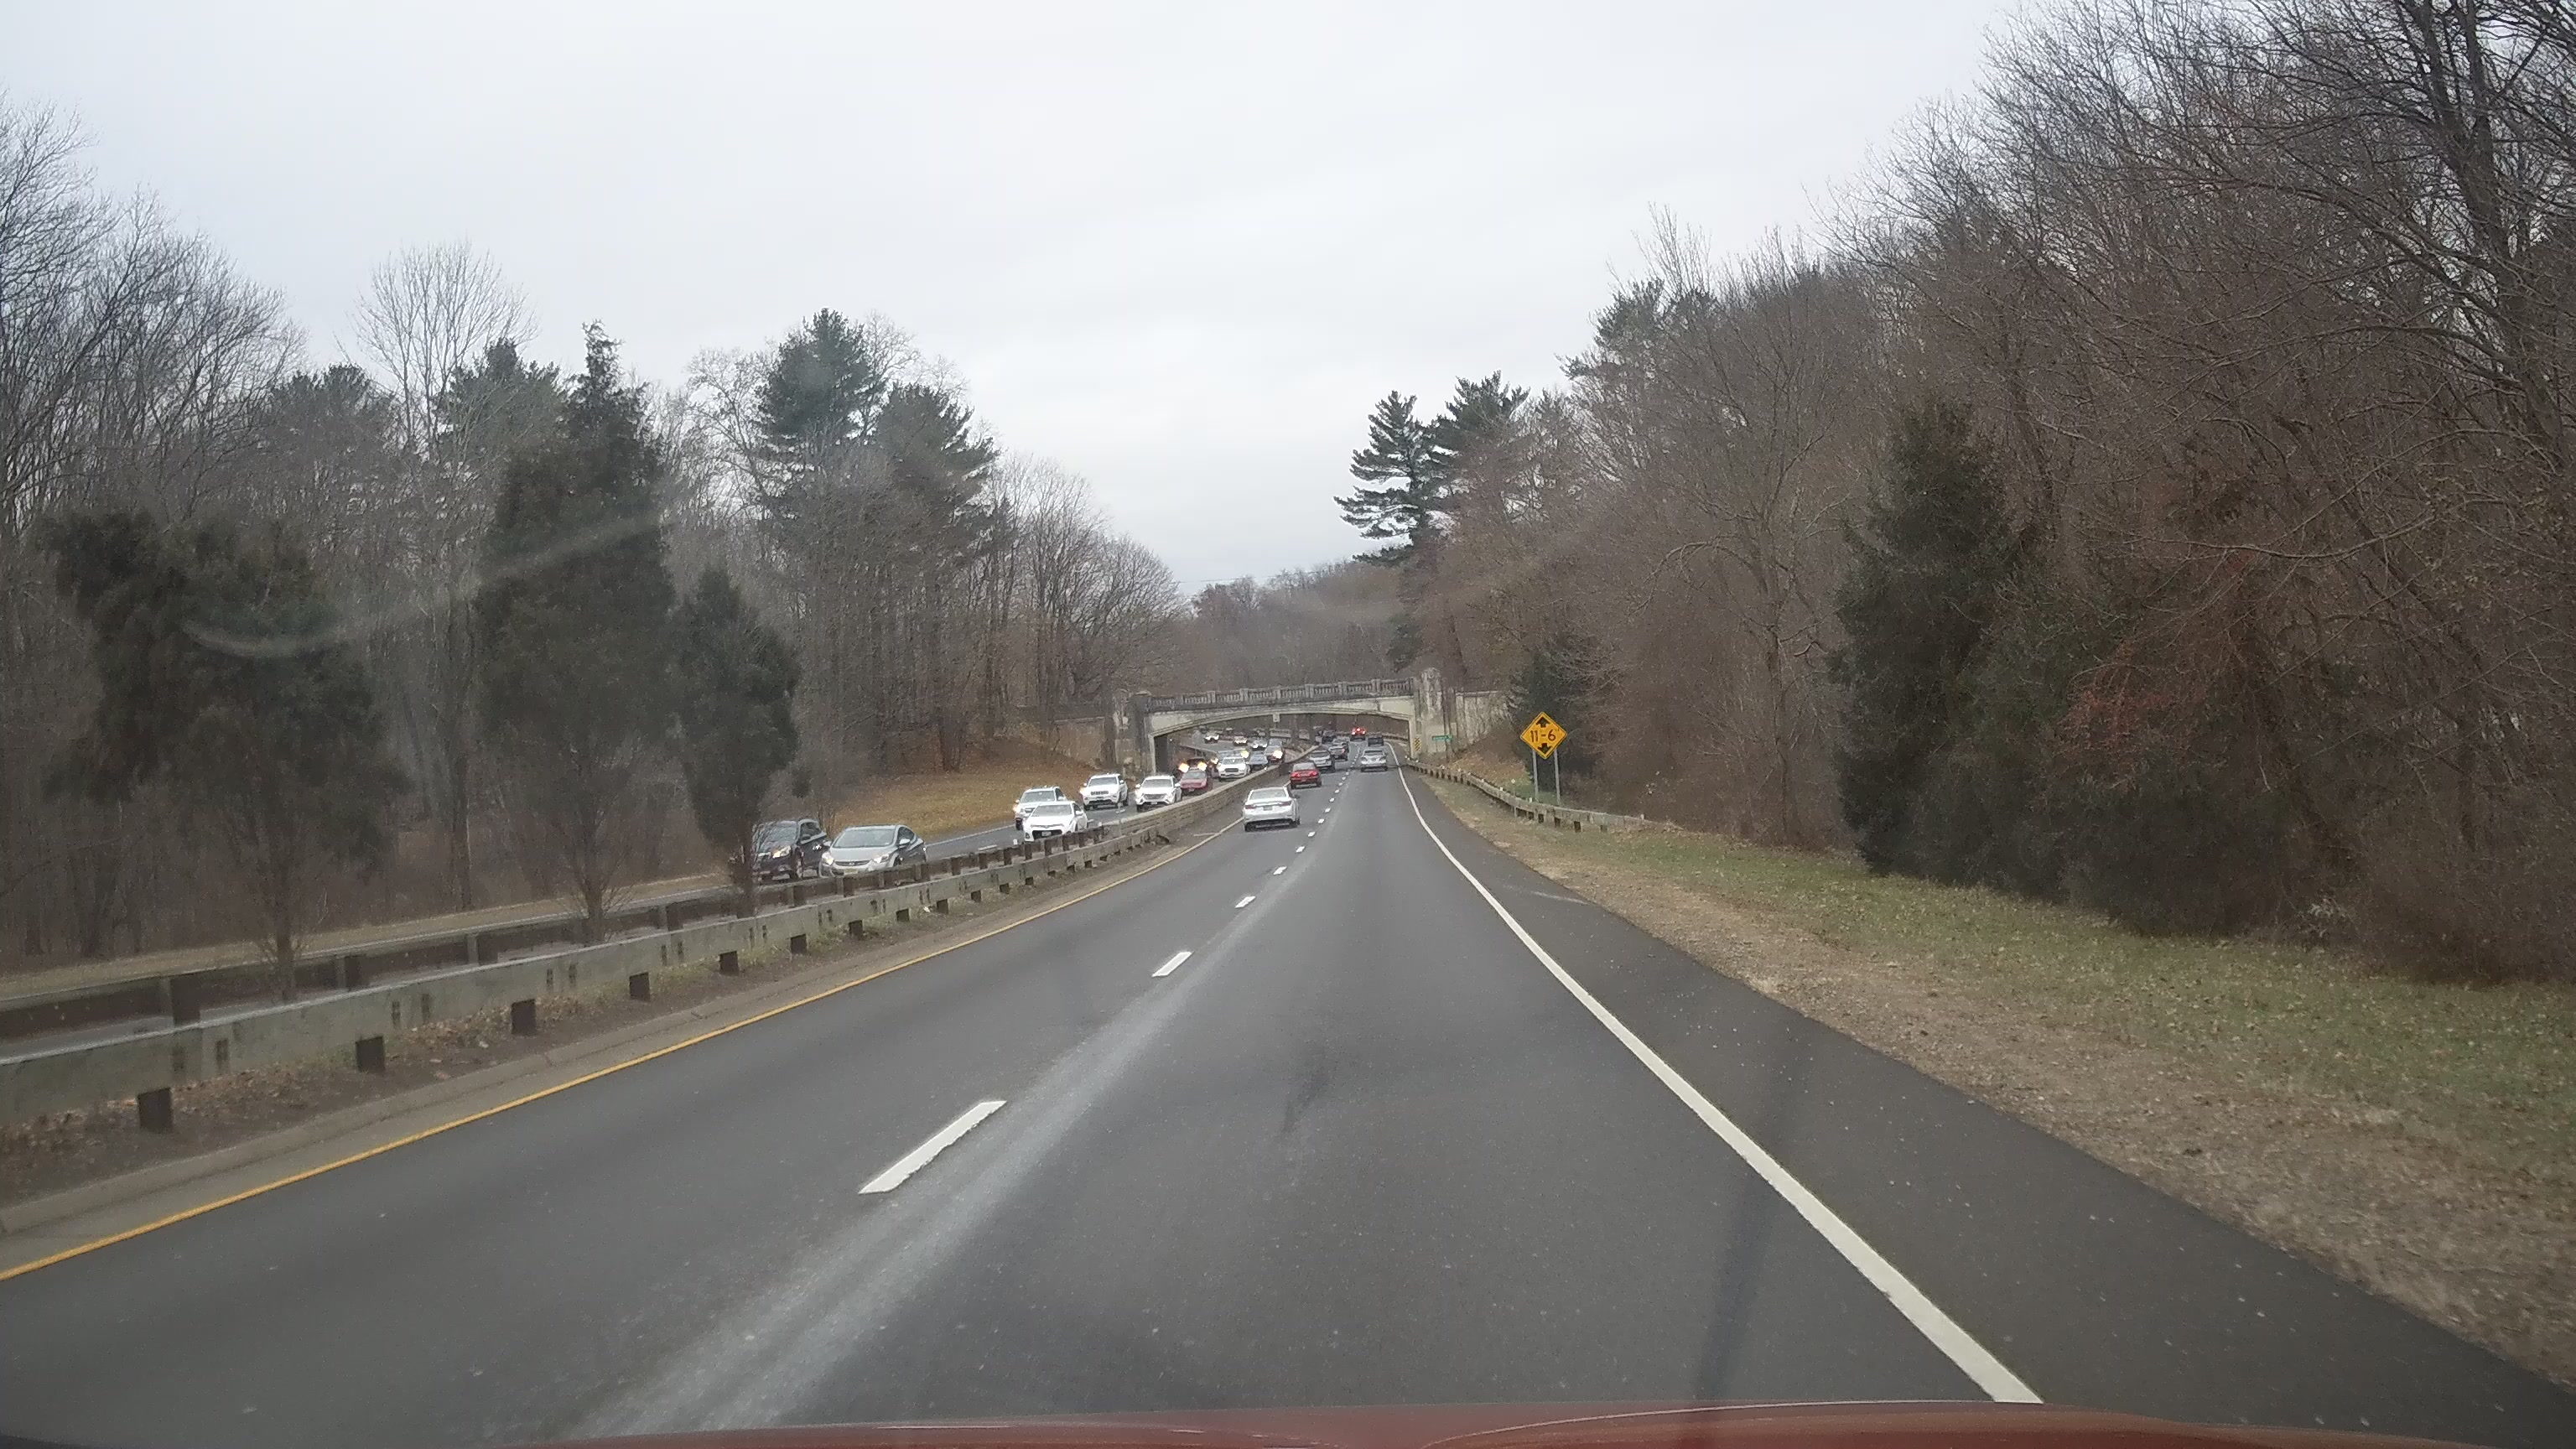low-clearance-sign: (1520, 711, 1568, 761)
